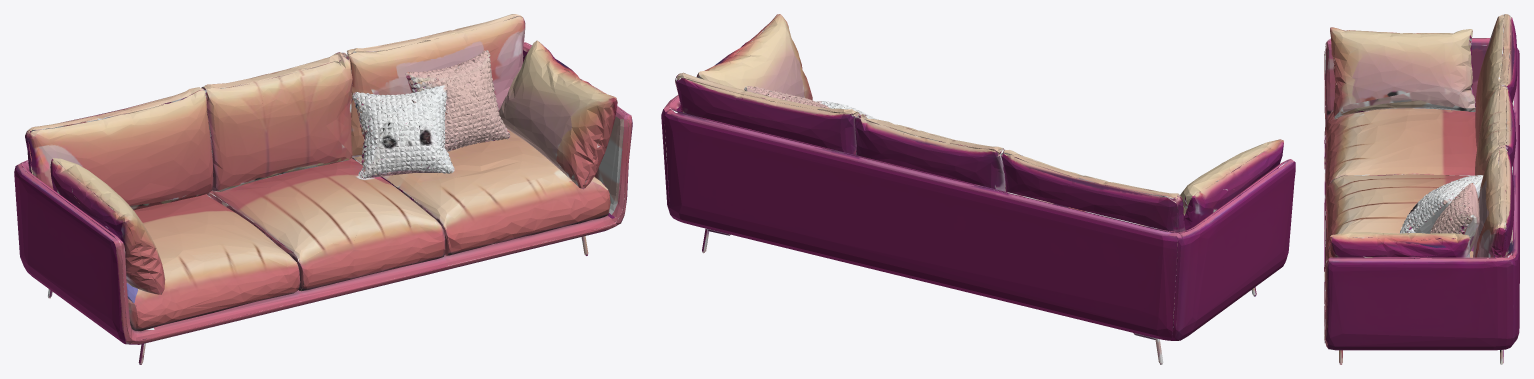
File: edited_mesh.glb
3 views of the same model, side by side, from view 1: azimuth 30°, elevation 25°; view 2: azimuth 150°, elevation 25°; view 3: azimuth 270°, elevation 25° (orthographic). The views are drawn at different scales.
Visible parts, largest first — view 1: solid_001_wire; view 2: solid_001_wire; view 3: solid_001_wire.
Part boxes in pixels (x1,y1,x2,y2): solid_001_wire: (14, 14, 632, 364); solid_001_wire: (661, 14, 1295, 364); solid_001_wire: (1324, 14, 1519, 364).
Bounding box in the file's own units: 2 × 0.6387 × 0.7369.
Materials: 1 (1 with a texture image).
